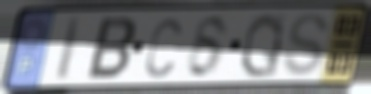6: (185, 15, 231, 79)
B: (84, 15, 138, 82)
C: (143, 15, 183, 80)
I: (53, 15, 85, 83)
Q: (238, 10, 287, 80)
S: (281, 11, 332, 78)
